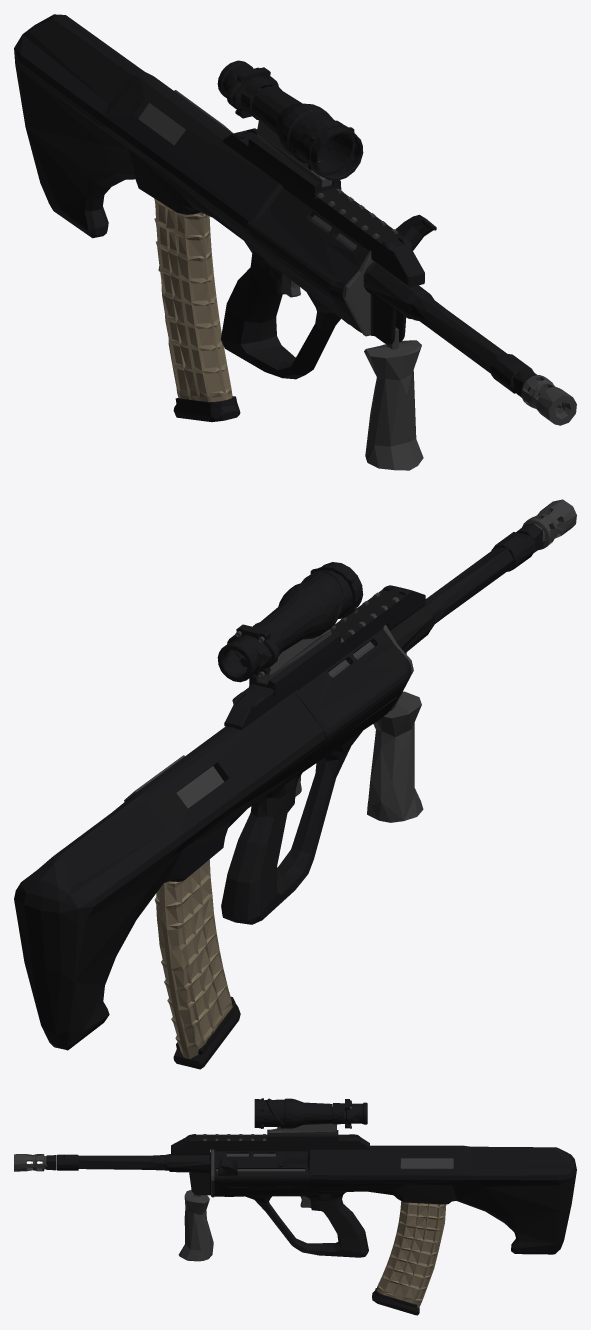
Rendered from aug.obj.
3 views of the same model, one above another, from view 1: azimuth 30°, elevation 25°; view 2: azimuth 150°, elevation 25°; view 3: azimuth 270°, elevation 25° (orthographic). The views are drawn at different scales.
Parts seen in each view (by area): view 1: aug.001, aug.003, aug.094, aug.086, aug.071, aug.041, aug.014, aug.042, aug.104, aug.033, aug.002, aug.034 (+4 smaller); view 2: aug.001, aug.003, aug.094, aug.086, aug.071, aug.041, aug.014, aug.104, aug.042, aug.002, aug.013, aug.093 (+1 smaller); view 3: aug.001, aug.003, aug.086, aug.094, aug.041, aug.014, aug.071, aug.104, aug.004, aug.093, aug.042, aug.002 (+3 smaller).
Part boxes in pixels (box(x1,y1,x2,y2)): aug.001: box(14, 14, 349, 379); aug.003: box(154, 198, 232, 402); aug.094: box(217, 60, 363, 180); aug.086: box(246, 182, 370, 333); aug.071: box(364, 340, 423, 470); aug.041: box(223, 128, 424, 287); aug.014: box(363, 261, 506, 373); aug.042: box(521, 375, 576, 425); aug.104: box(248, 135, 341, 199); aug.033: box(342, 250, 373, 336); aug.002: box(173, 396, 240, 422); aug.034: box(370, 294, 406, 344); aug.001: box(14, 692, 396, 1050); aug.003: box(154, 859, 232, 1059); aug.094: box(217, 562, 363, 682); aug.086: box(294, 626, 411, 751); aug.071: box(367, 691, 423, 822); aug.041: box(224, 585, 425, 730); aug.014: box(390, 547, 513, 652); aug.104: box(249, 632, 341, 695); aug.042: box(522, 499, 576, 549); aug.002: box(173, 996, 240, 1069); aug.013: box(491, 523, 543, 571); aug.093: box(257, 629, 331, 683); aug.001: box(227, 1145, 576, 1257); aug.003: box(376, 1201, 446, 1307); aug.086: box(214, 1149, 312, 1196); aug.094: box(254, 1098, 367, 1128); aug.041: box(171, 1134, 369, 1154); aug.014: box(78, 1152, 211, 1172); aug.071: box(178, 1190, 213, 1261); aug.104: box(267, 1129, 338, 1143); aug.004: box(400, 1158, 453, 1169); aug.093: box(268, 1123, 337, 1133); aug.042: box(14, 1154, 47, 1171); aug.002: box(372, 1288, 419, 1315).
Size of the model in its own units: 3.66 by 12.94 by 31.07.
